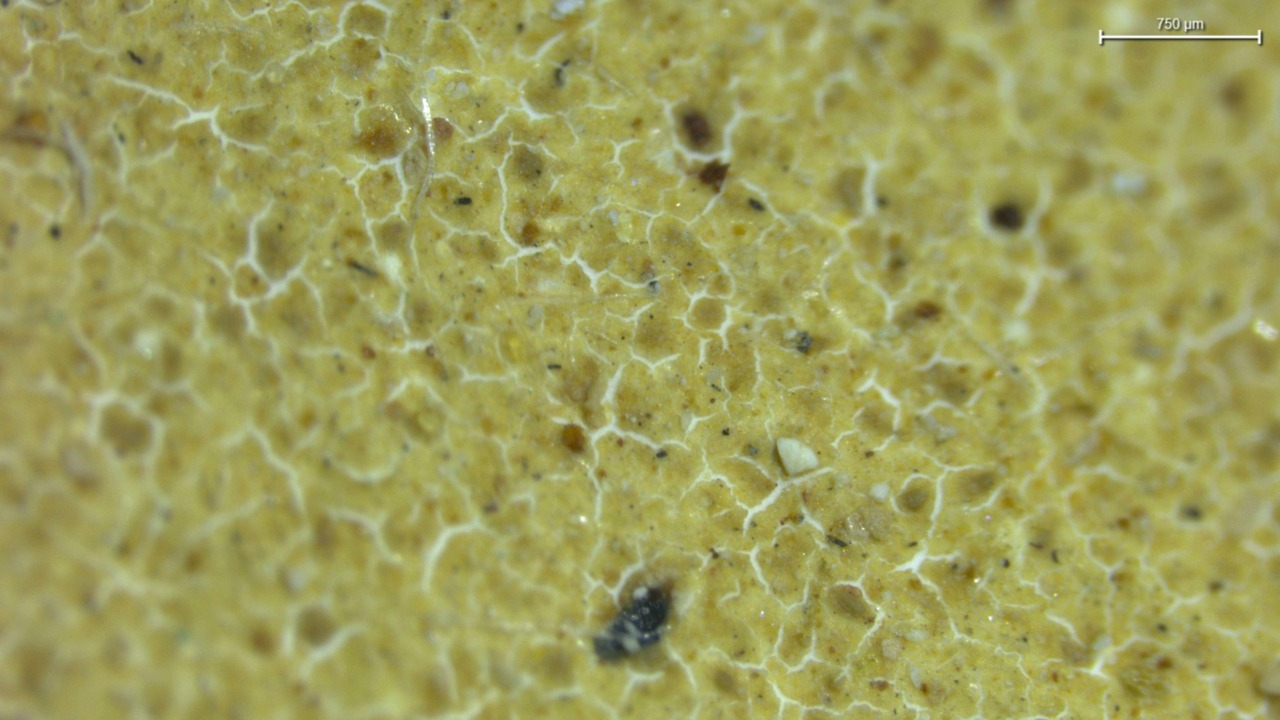microplastic_fragment: (832, 501, 892, 541), (776, 439, 818, 469)
